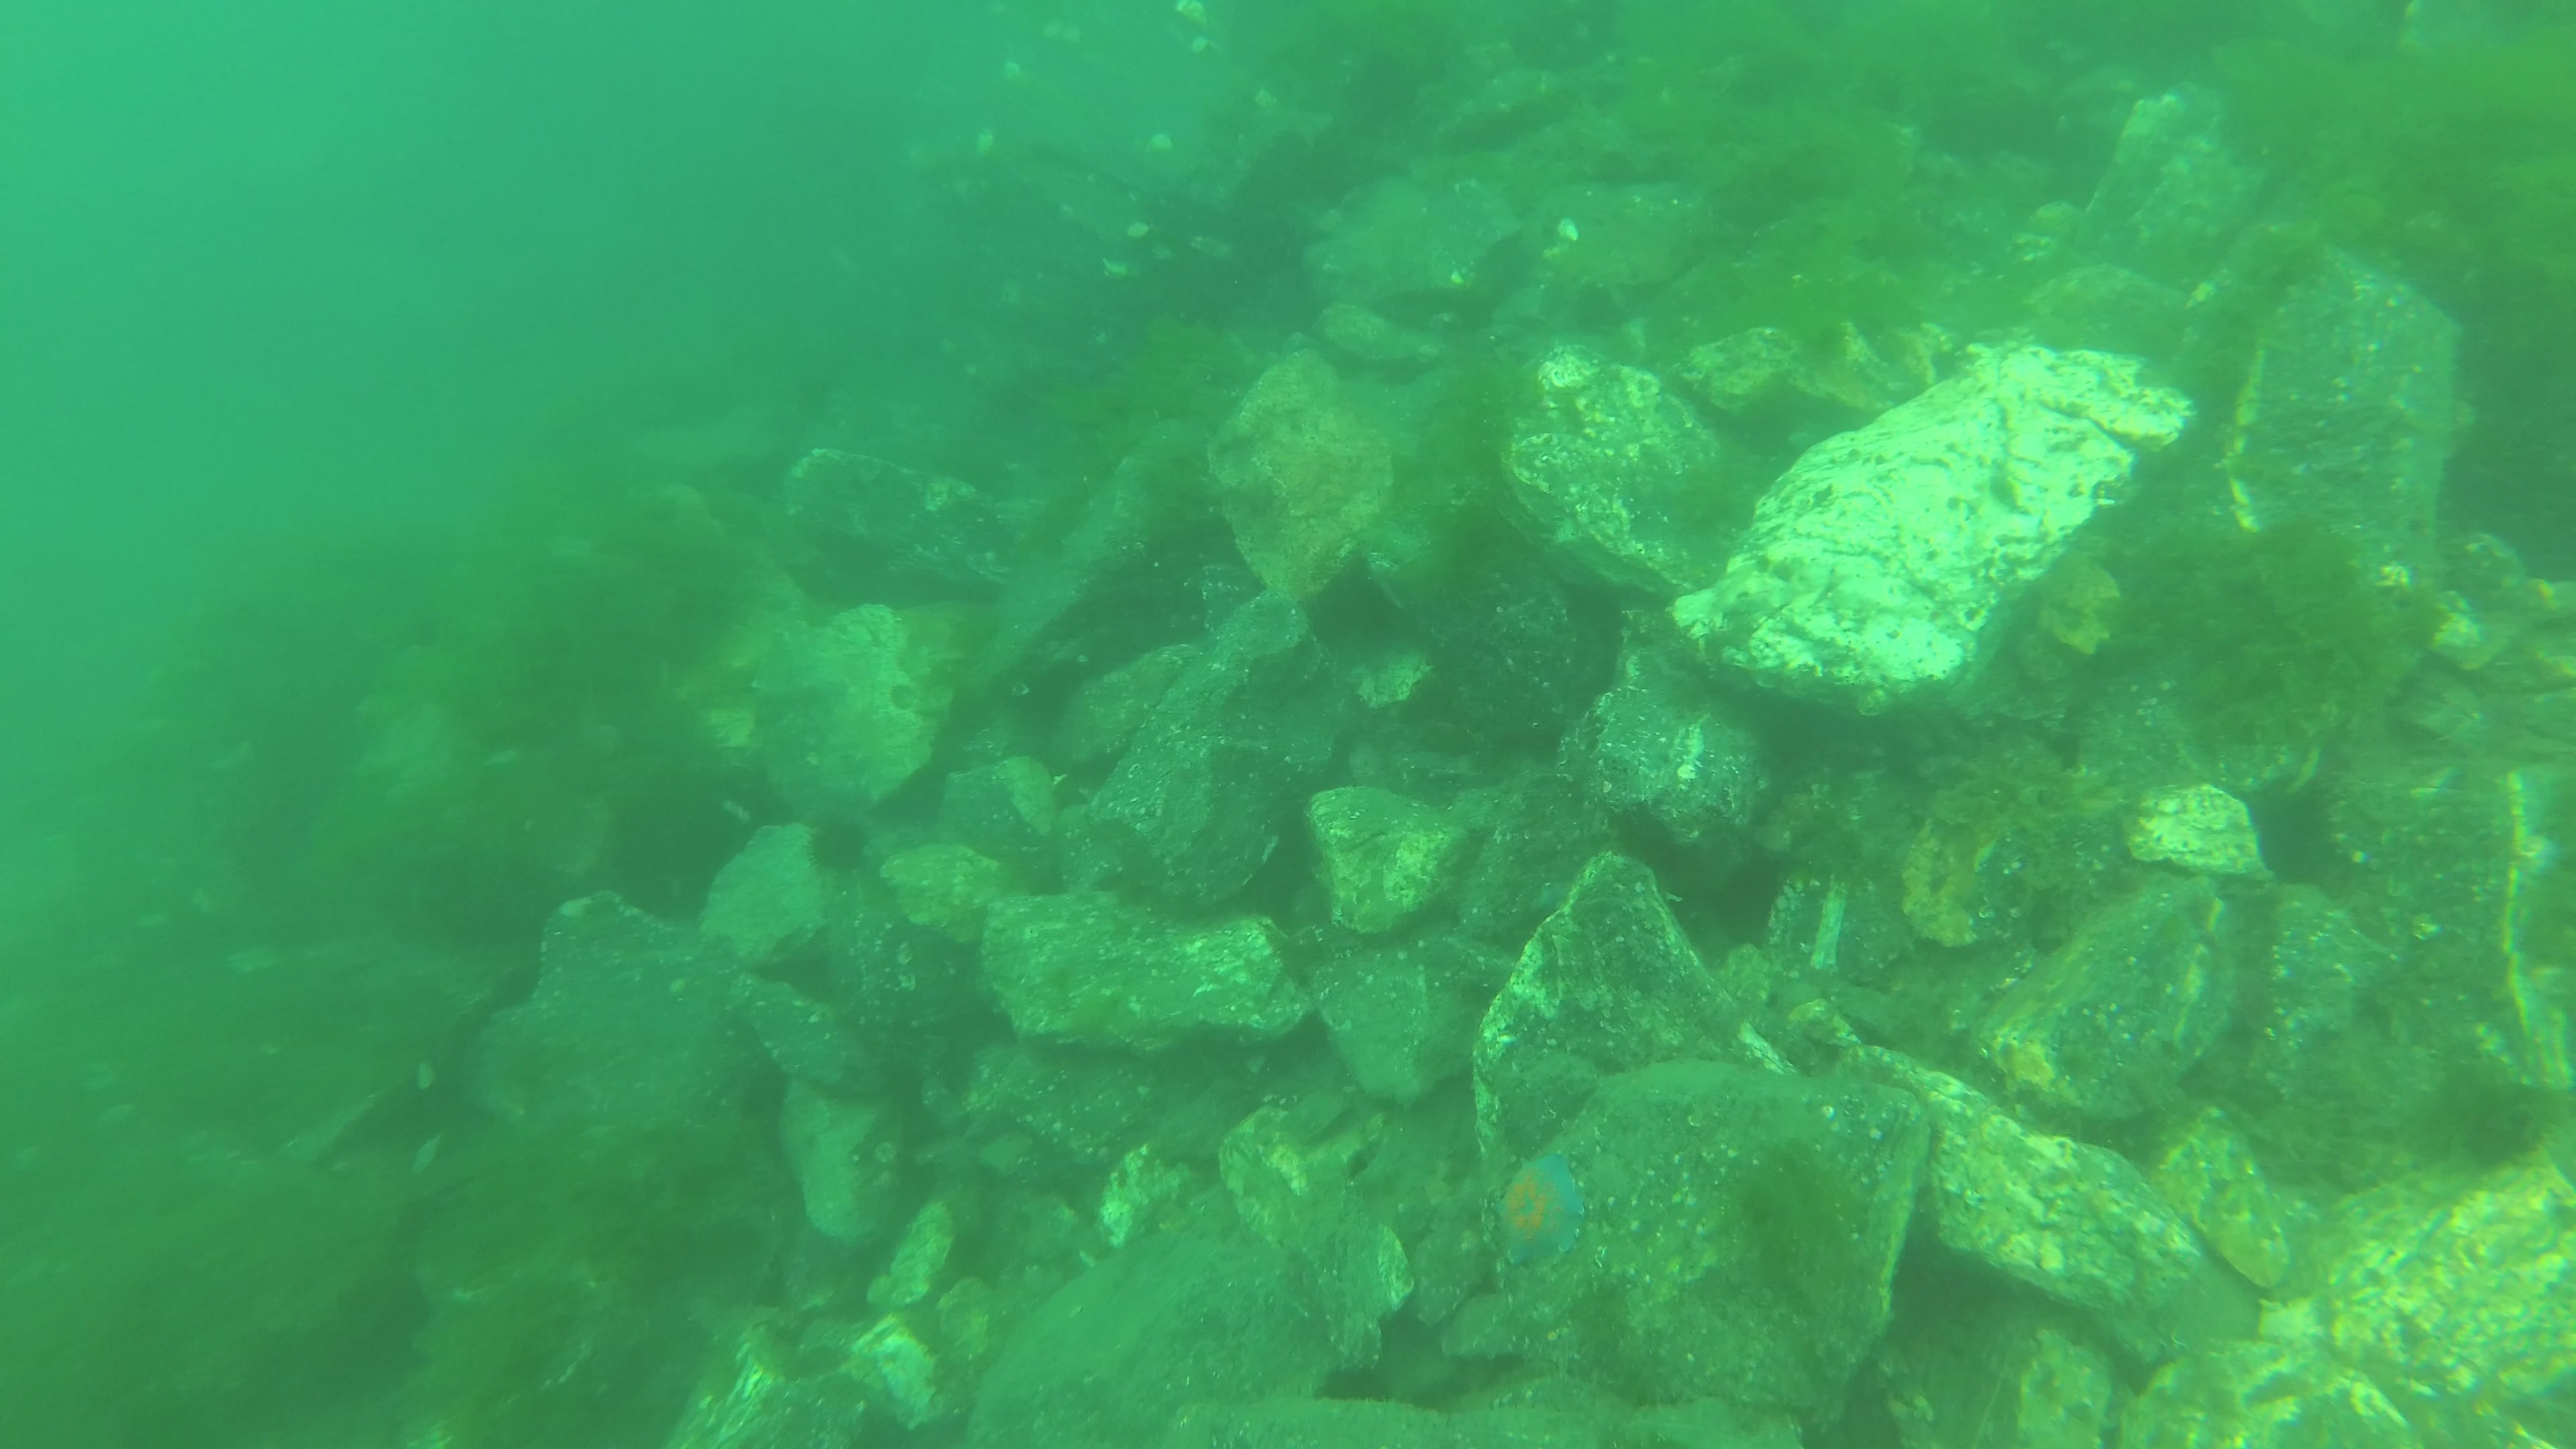echinus: (803, 819, 863, 883)
starfish: (1497, 1150, 1583, 1267)
